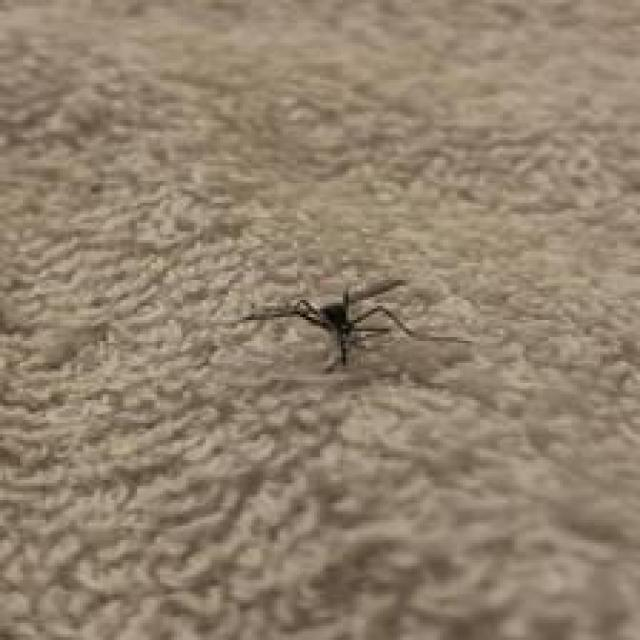Aedes albopictus: (226, 272, 468, 374)
